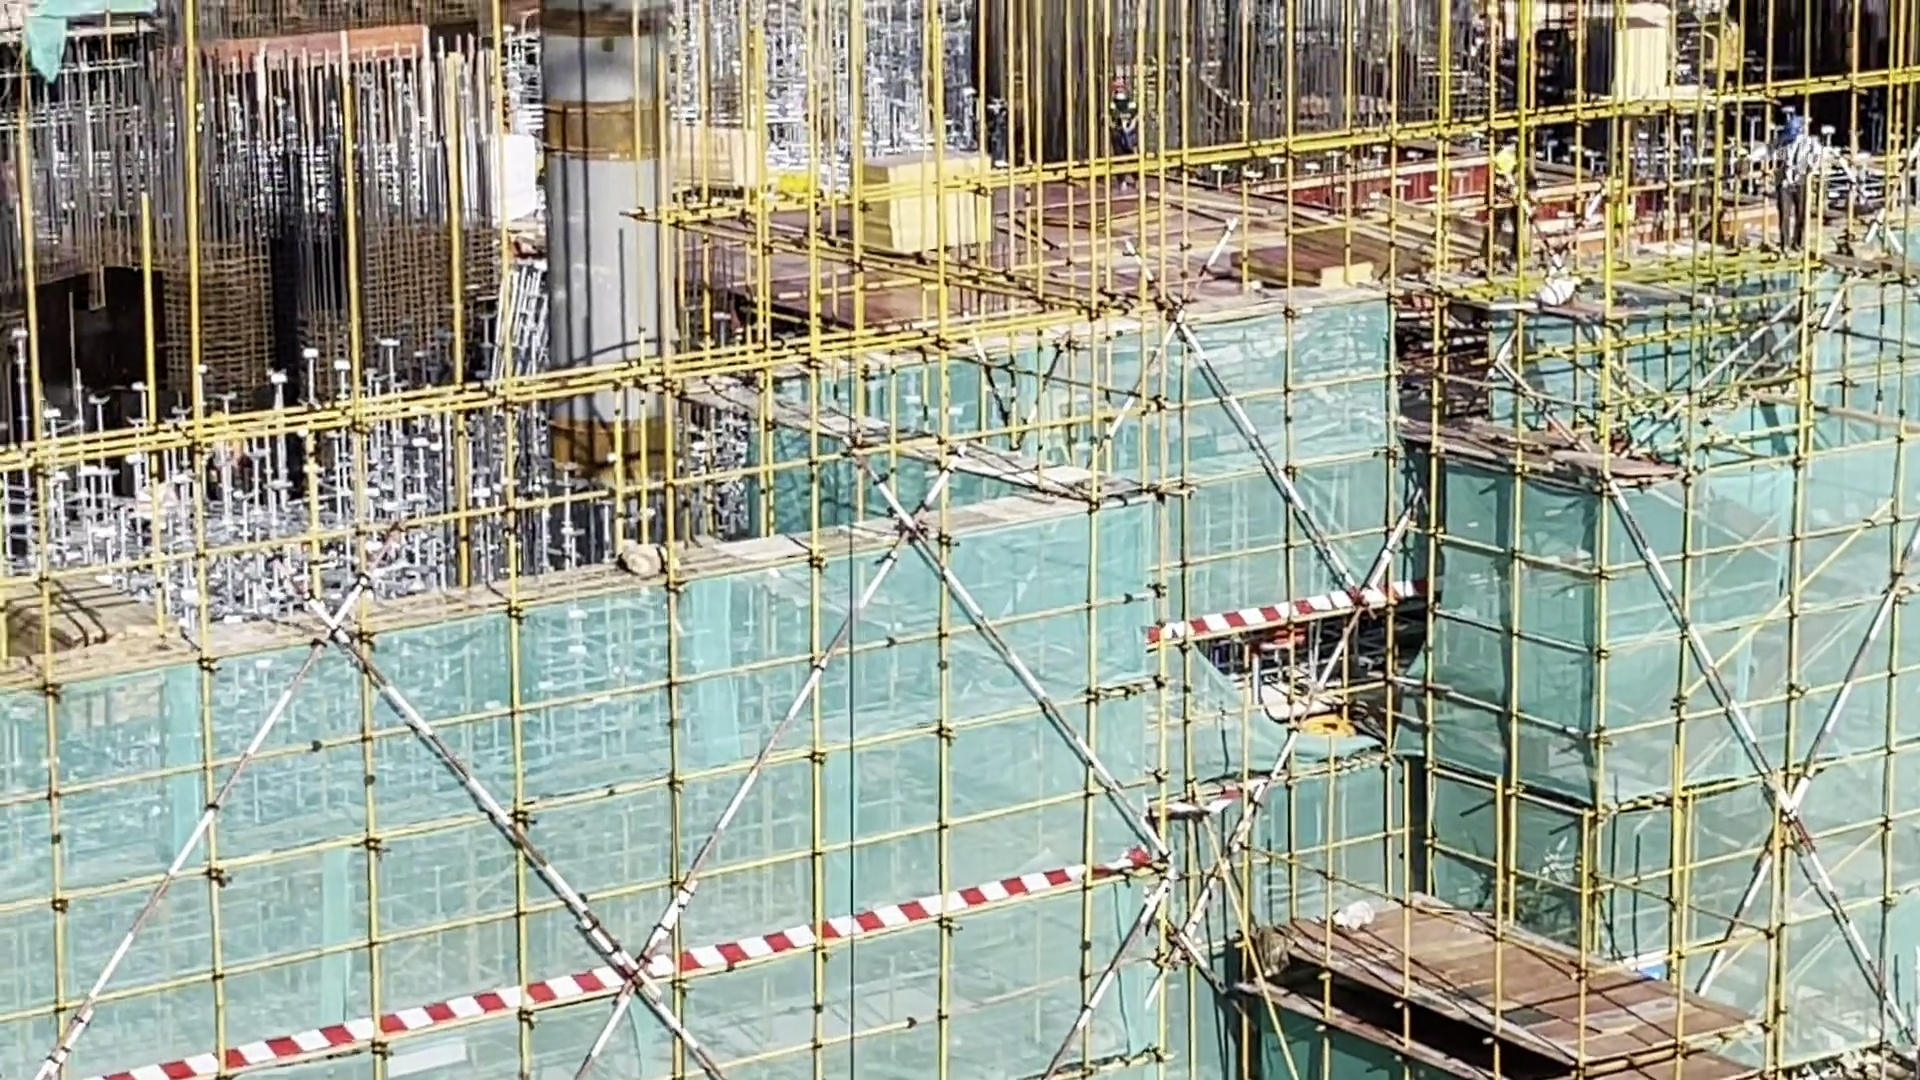helmet: (1496, 151, 1523, 174), (1787, 122, 1806, 138), (956, 86, 975, 101), (1111, 91, 1130, 105), (1488, 1, 1499, 23)
person: (1779, 113, 1823, 264), (1487, 136, 1534, 274), (1105, 82, 1150, 203), (959, 87, 1017, 165), (1465, 1, 1508, 88)
vest: (1493, 161, 1529, 219), (1113, 102, 1144, 163), (1778, 134, 1814, 187), (980, 88, 1012, 146), (1485, 24, 1509, 57)
